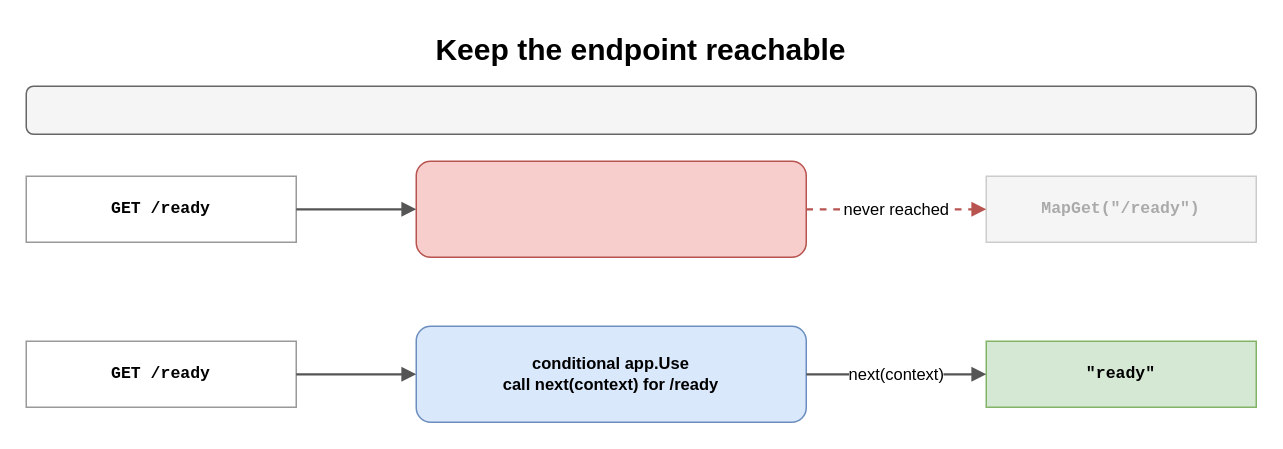
The diagram is 1283 pixels wide and 449 high, and some of its shapes have lost their labels. The shapes that lost their labels are listed below. From the top down, each one's centre as x and y in pixels, then its label:
(640,109): Terminal middleware completes every request that reaches it
(610,208): app.Run(async context => ...) StatusCode = 503 · "Closed"
